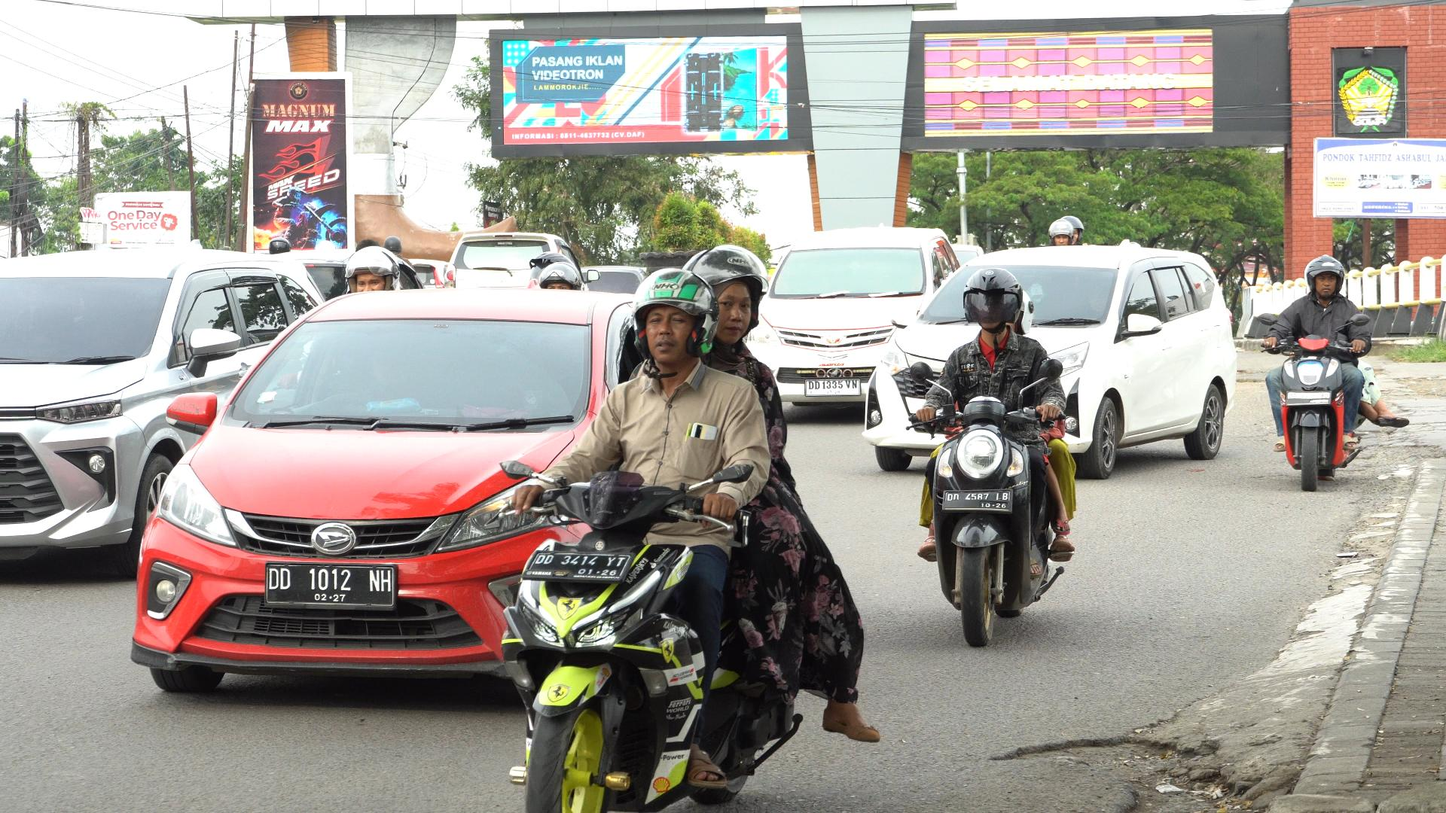number-plate: (517, 545, 629, 579), (938, 488, 1016, 517)
